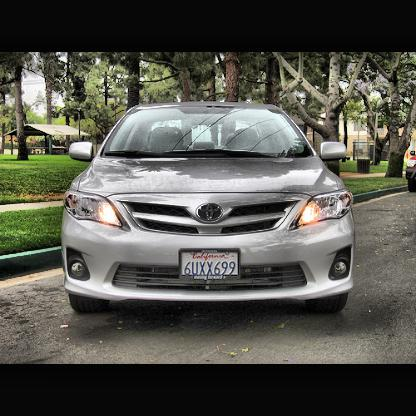Toyota Corolla Sedan 2012: (58, 96, 363, 328)
